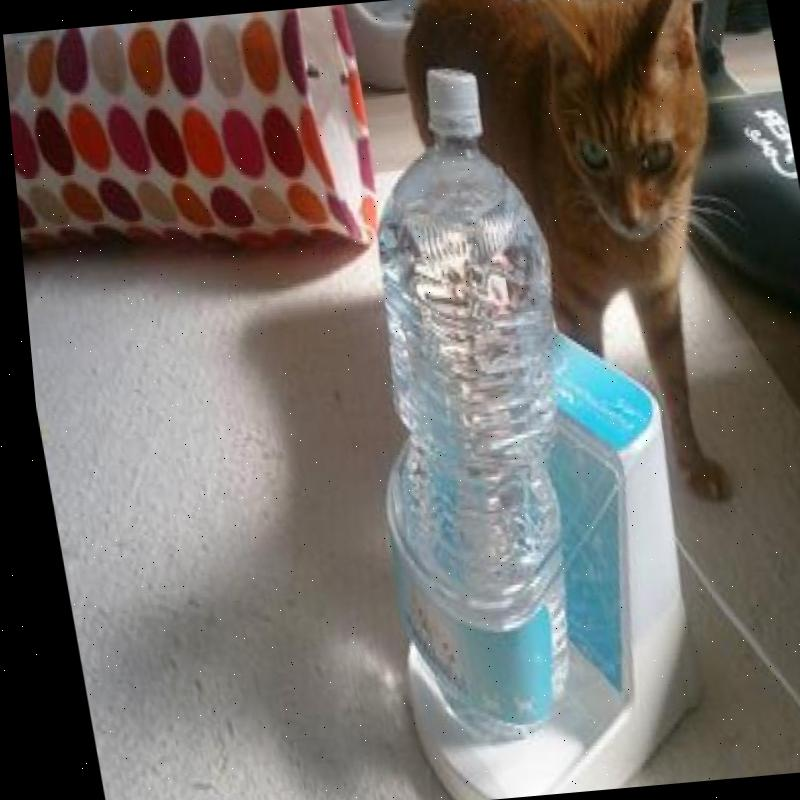botella: (310, 59, 620, 748)
